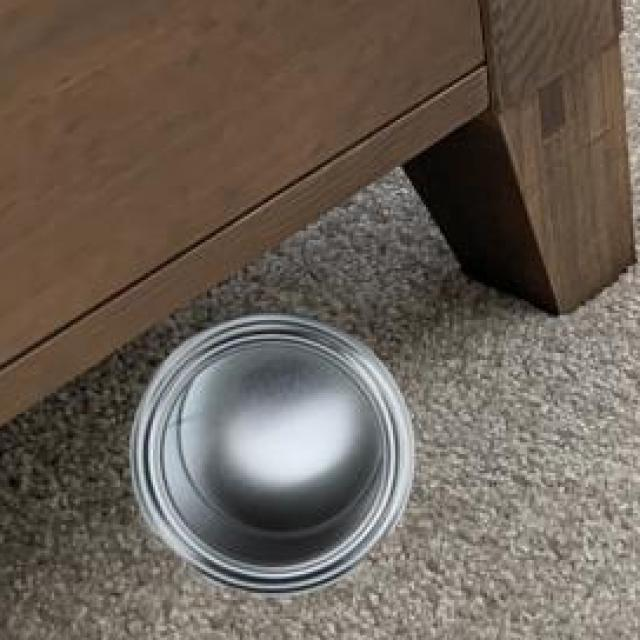logam: (128, 309, 411, 594)
